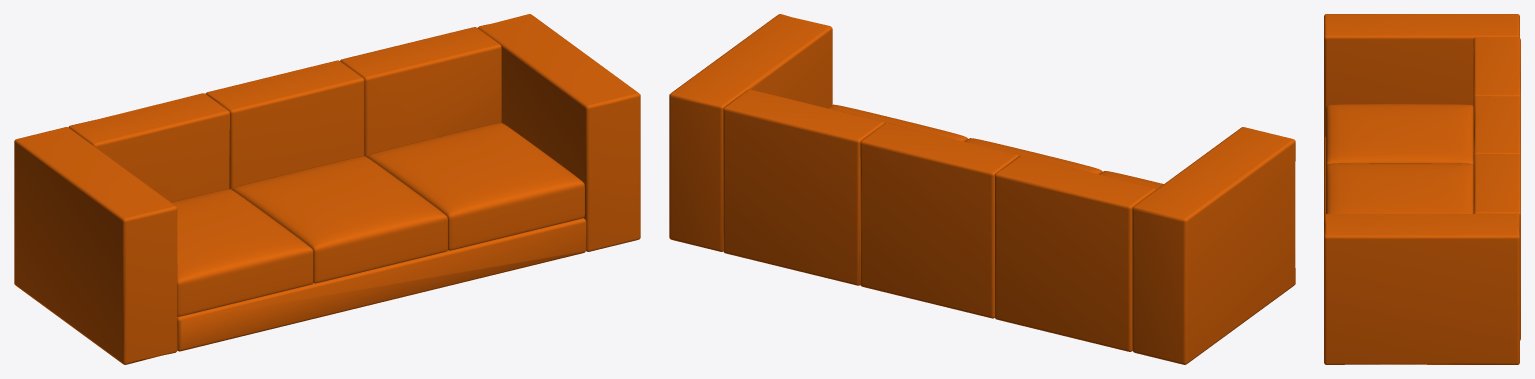
The model's file is sofaDEFINITIVO.fbx.
The picture shows the model from 3 angles, left to right: view 1: azimuth 30°, elevation 25°; view 2: azimuth 150°, elevation 25°; view 3: azimuth 270°, elevation 25°; orthographic projection. The views are drawn at different scales.
Visible parts, largest first — view 1: sofa; view 2: sofa; view 3: sofa.
Boxes of the visible parts, x1,y1,x2,y2 form: sofa: (14, 14, 640, 364); sofa: (669, 14, 1295, 364); sofa: (1324, 14, 1520, 364).
Size of the model in its own units: 3.16 by 0.8542 by 1.18.
